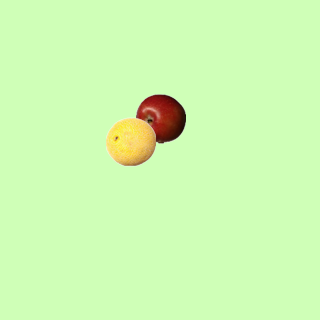Apple Braeburn: (135, 93, 185, 143)
Cantaloupe 1: (105, 116, 155, 166)
